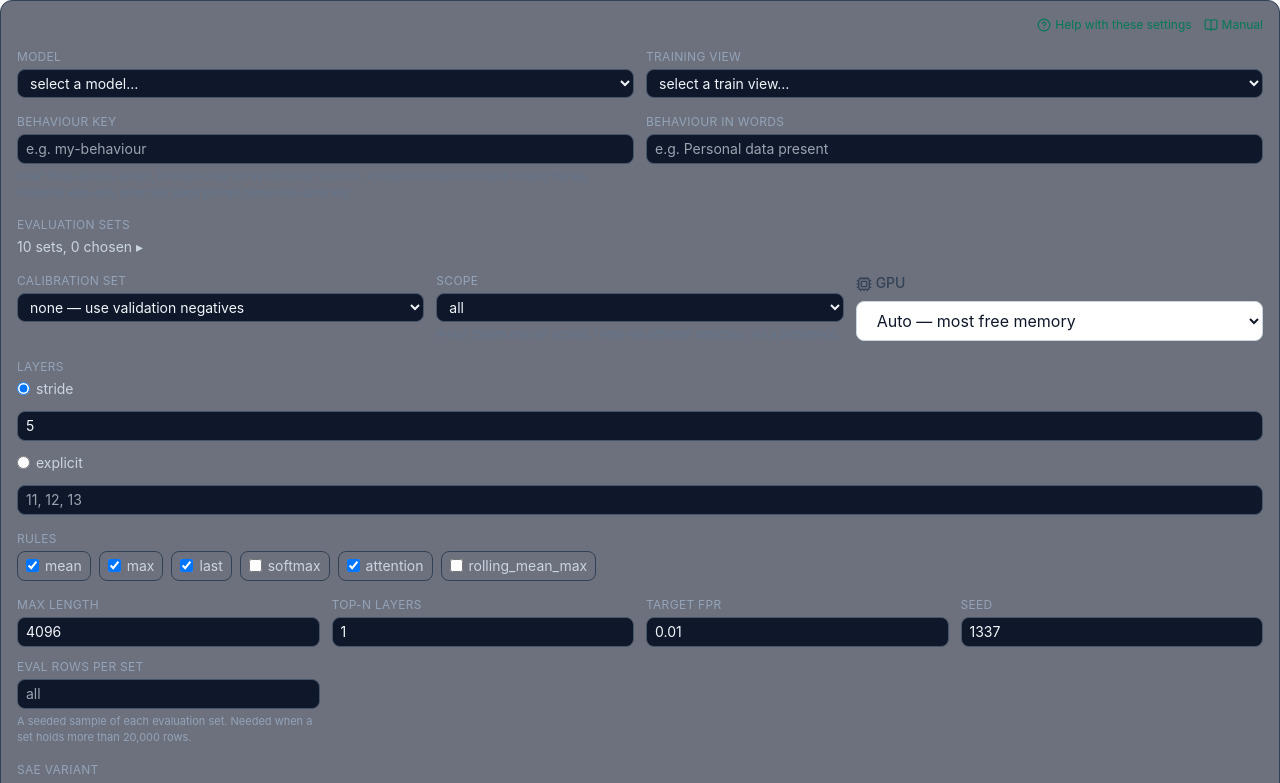
Test: set lists on the probe page use the shared SetList › the training form's "Evaluation sets" (ProbeRunForm)
Click the button "10 sets, 0 chosen ▸" at [80, 247], box [17,237,143,257]
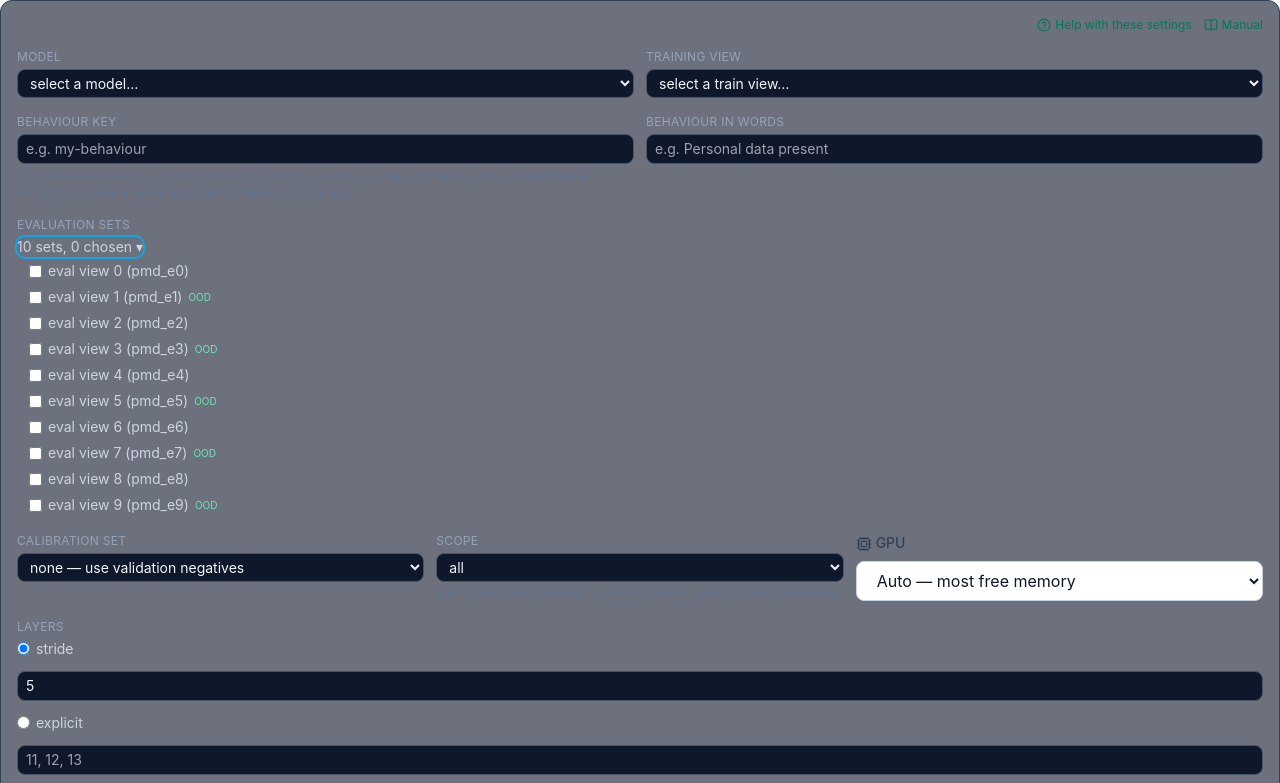
Now the number of list items is 10
Now the checkbox labelled "eval view 9 (pmd_e9) OOD" is shown, box [29,498,42,512]
Now the list item "eval view 0 (pmd_e0)" is shown, box [29,262,189,279]
